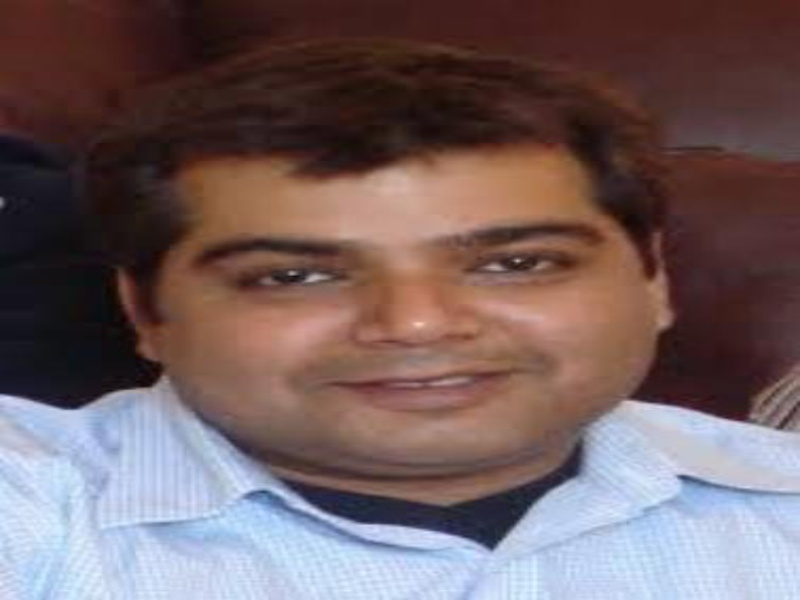TsisyArotava: (70, 47, 721, 478)
